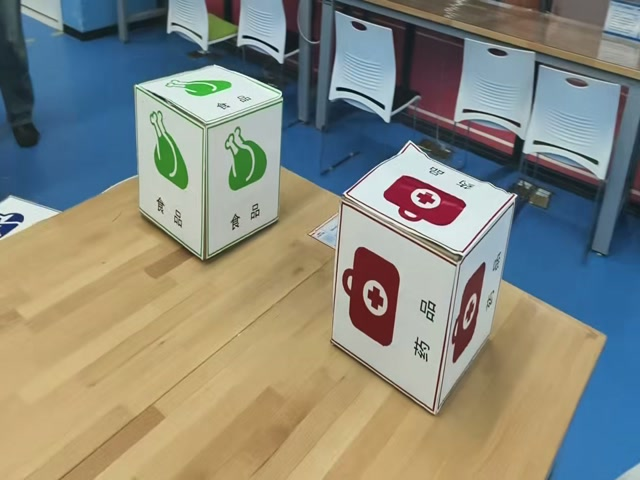Cube_food: (136, 62, 284, 134)
Cube_medicine: (339, 142, 517, 267)
